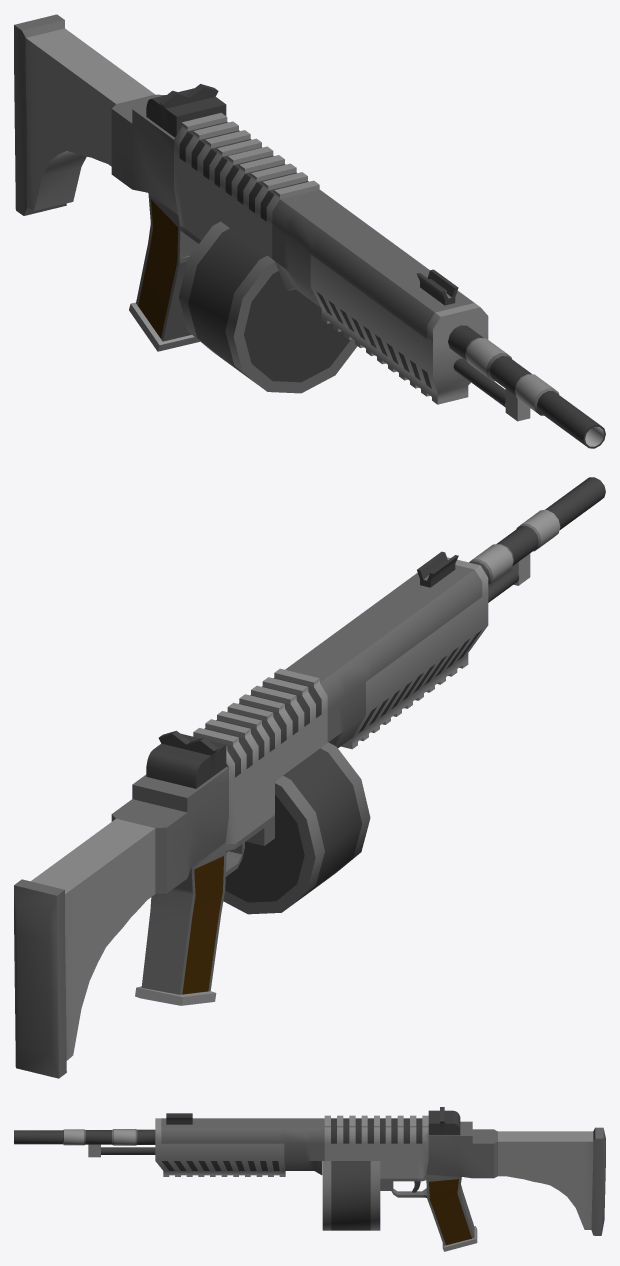
Rendered from 14-Battle-rifle.glb.
The picture shows the model from 3 angles, top to bottom: view 1: azimuth 30°, elevation 25°; view 2: azimuth 150°, elevation 25°; view 3: azimuth 270°, elevation 25°; orthographic projection. The views are drawn at different scales.
Visible parts, largest first — view 1: Battle rifle; view 2: Battle rifle; view 3: Battle rifle.
Boxes of the visible parts, x1,y1,x2,y2 form: Battle rifle: (14,14,605,448); Battle rifle: (14,477,605,1078); Battle rifle: (14,1107,605,1251).
Bounding box in the file's own units: 0.1425 × 0.2584 × 1.02.
Materials: 1 (1 with a texture image).
